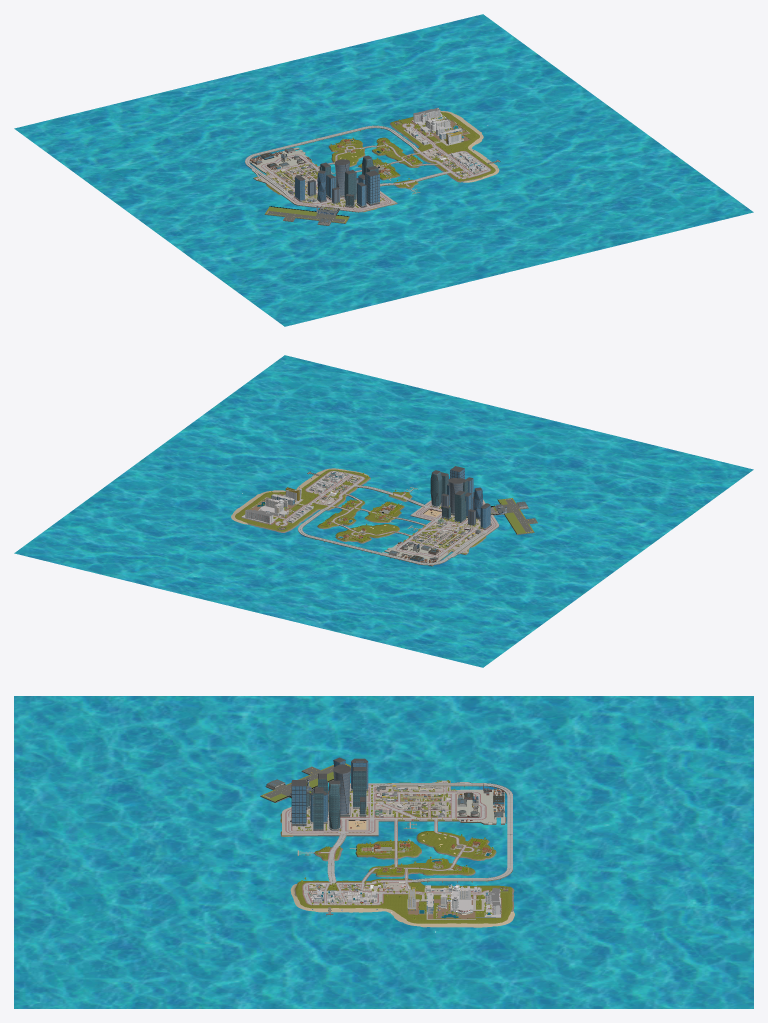
File: city.glb
The picture shows the model from 3 angles, top to bottom: view 1: azimuth 30°, elevation 25°; view 2: azimuth 150°, elevation 25°; view 3: azimuth 270°, elevation 25°; orthographic projection. The views are drawn at different scales.
Parts seen in each view (by area): view 1: Sea, AirPort_Track, RichAreaC_Ground001; view 2: Sea, AirPort_Track, RichAreaC_Ground001, Hotel_GroundD; view 3: Sea, RichAreaC_Ground001, BusinessDistrictA_Ground, Hotel_GroundA, Hotel_GroundC, AirPort_Track, RichAreaA_Ground, Little_Havana_2, Hotel_GroundB, Skyscraper_7__1_, Boulevard_GroundC, Hotel_GroundD (+12 smaller).
Boxes of the visible parts, left/top/right/bottom form: Sea: left=14, top=14, right=753, bottom=326; AirPort_Track: left=264, top=206, right=349, bottom=225; RichAreaC_Ground001: left=328, top=139, right=365, bottom=166; Sea: left=14, top=355, right=753, bottom=667; AirPort_Track: left=497, top=498, right=537, bottom=534; RichAreaC_Ground001: left=335, top=524, right=399, bottom=543; Hotel_GroundD: left=257, top=508, right=312, bottom=532; Sea: left=14, top=696, right=753, bottom=1008; RichAreaC_Ground001: left=416, top=831, right=496, bottom=860; BusinessDistrictA_Ground: left=280, top=820, right=378, bottom=836; Hotel_GroundA: left=379, top=904, right=450, bottom=927; Hotel_GroundC: left=450, top=904, right=514, bottom=927; AirPort_Track: left=260, top=763, right=350, bottom=802; RichAreaA_Ground: left=368, top=858, right=475, bottom=877; Little_Havana_2: left=408, top=802, right=460, bottom=821; Hotel_GroundB: left=382, top=878, right=441, bottom=904; Skyscraper_7__1_: left=290, top=780, right=306, bottom=826; Boulevard_GroundC: left=290, top=880, right=361, bottom=895; Hotel_GroundD: left=441, top=885, right=514, bottom=904.
Bounding box in the file's own units: 3000 × 214 × 3000.
Materials: 12 (11 with a texture image).
